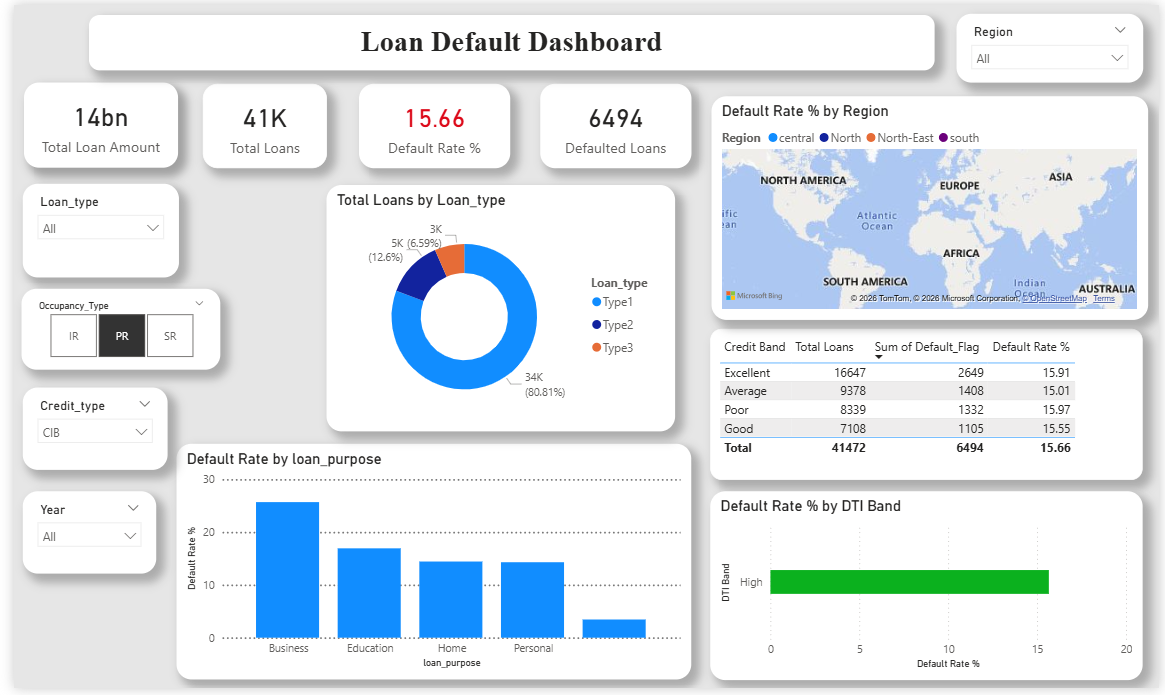

What the dashboard file says about the page in this screenshot:
{"tool":"powerbi","page":{"name":"Page 1","canvas":[1290,770],"ordinal":0},"visuals":[{"type":"card","fields":{"Values":["Loan Default Dataset.Total Loan Amount"]},"box":[10.7,88,173.3,96],"z":0},{"type":"card","fields":{"Values":["Loan Default Dataset.Total Loans"]},"box":[213.3,88.3,140,95],"z":1000},{"type":"clusteredColumnChart","title":"Default Rate by loan_purpose","fields":{"Category":["Loan Default Dataset.loan_purpose"],"Y":["Loan Default Dataset.Default Rate %"]},"box":[182.7,494.7,580,265.3],"z":2000},{"type":"card","fields":{"Values":["Sum(Loan Default Dataset.Default_Flag)"]},"box":[593.3,88.3,170,95],"z":3000},{"type":"card","fields":{"Values":["Loan Default Dataset.Default Rate %"]},"box":[388.3,88.3,170,95],"z":4000},{"type":"slicer","fields":{"Values":["Loan Default Dataset.Region"]},"box":[1062.5,10,210,77.5],"z":5000},{"type":"slicer","fields":{"Values":["Loan Default Dataset.Loan_type"]},"box":[10,201.4,175.7,105.7],"z":6000},{"type":"slicer","fields":{"Values":["Loan Default Dataset.Credit_type"]},"box":[10,431.4,162.9,92.9],"z":7000},{"type":"slicer","fields":{"Values":["Loan Default Dataset.Occupancy_Type"]},"box":[8.6,320,224.3,91.4],"z":8000},{"type":"tableEx","fields":{"Values":["Loan Default Dataset.Credit Band","Loan Default Dataset.Total Loans","Sum(Loan Default Dataset.Default_Flag)","Loan Default Dataset.Default Rate %"]},"box":[785,365,487.5,170],"z":9000},{"type":"map","fields":{"Series":["Loan Default Dataset.Region"],"Size":["Loan Default Dataset.Default Rate %"]},"box":[785.3,102.7,492,252],"z":10000},{"type":"textbox","box":[84.3,10.8,953,62.7],"z":11000},{"type":"donutChart","fields":{"Category":["Loan Default Dataset.Loan_type"],"Y":["Loan Default Dataset.Total Loans"]},"box":[352.5,202.5,392.5,277.5],"z":12000},{"type":"slicer","fields":{"Values":["Loan Default Dataset.Year"]},"box":[10,548.6,150,92.9],"z":13000},{"type":"barChart","fields":{"Category":["Loan Default Dataset.DTI Band"],"Y":["Loan Default Dataset.Default Rate %"]},"box":[785,547.5,487.5,212.5],"z":14000}]}

Visuals, with their boxes in screenshot pixels (x1, y1, x2, y2), scaled from the page's 1290x770 canvas onto the 1165x695 screenshot:
card - Loan Default Dataset.Total Loan Amount: (10, 79, 166, 166)
card - Loan Default Dataset.Total Loans: (193, 80, 319, 165)
"Default Rate by loan_purpose" clusteredColumnChart: (165, 447, 689, 686)
card - Sum(Loan Default Dataset.Default_Flag): (536, 80, 689, 165)
card - Loan Default Dataset.Default Rate %: (351, 80, 504, 165)
slicer - Loan Default Dataset.Region: (960, 9, 1149, 79)
slicer - Loan Default Dataset.Loan_type: (9, 182, 168, 277)
slicer - Loan Default Dataset.Credit_type: (9, 389, 156, 473)
slicer - Loan Default Dataset.Occupancy_Type: (8, 289, 210, 371)
tableEx - Loan Default Dataset.Credit Band x Loan Default Dataset.Total Loans: (709, 329, 1149, 483)
map - Loan Default Dataset.Region x Loan Default Dataset.Default Rate %: (709, 93, 1154, 320)
textbox: (76, 10, 937, 66)
donutChart - Loan Default Dataset.Loan_type x Loan Default Dataset.Total Loans: (318, 183, 673, 433)
slicer - Loan Default Dataset.Year: (9, 495, 144, 579)
barChart - Loan Default Dataset.DTI Band x Loan Default Dataset.Default Rate %: (709, 494, 1149, 686)
